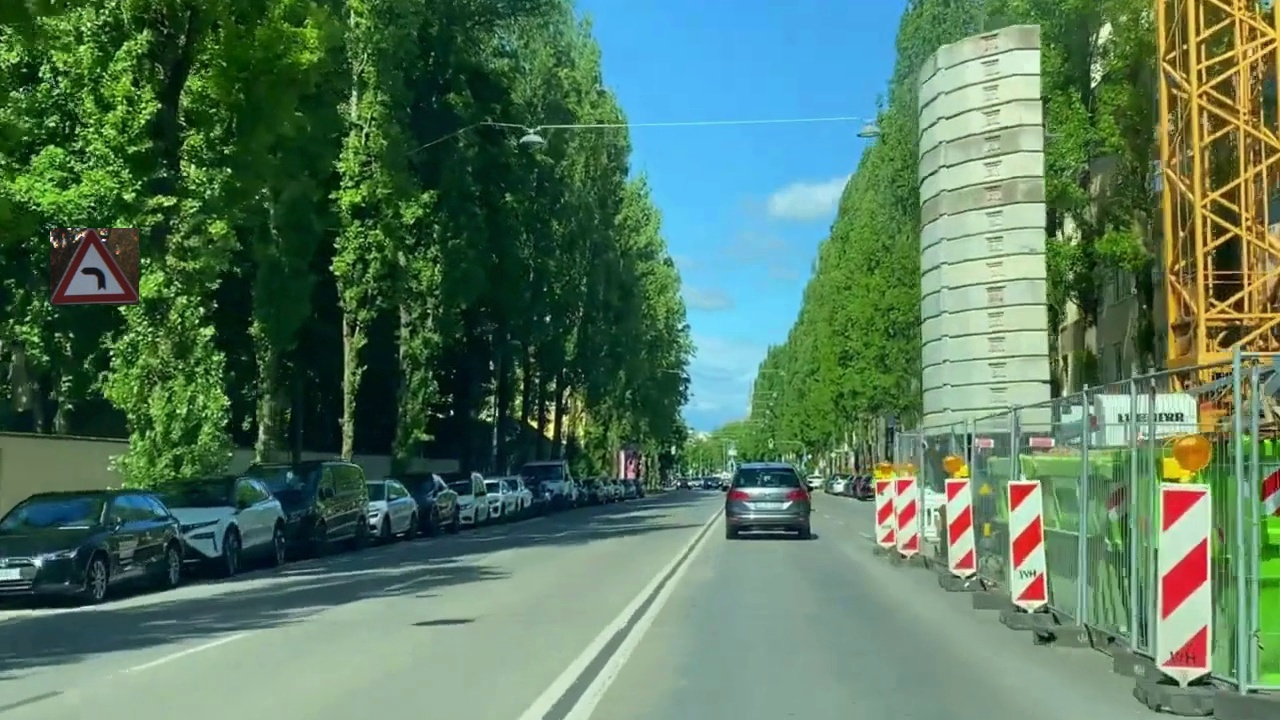Curve left: (50, 228, 139, 305)
